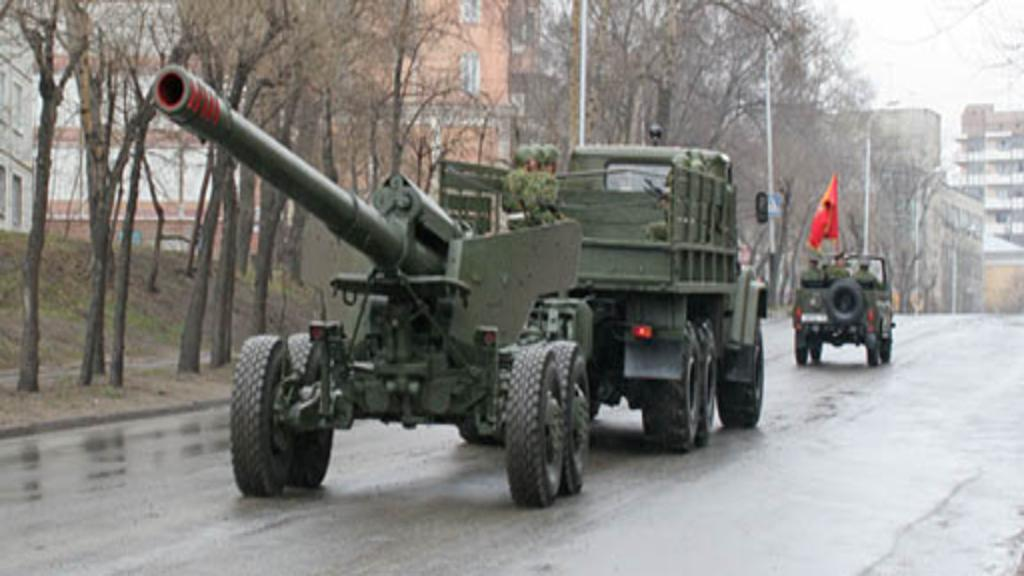ART: (154, 65, 590, 500)
CAR: (792, 250, 900, 369)
TRUCK: (434, 139, 760, 457)
